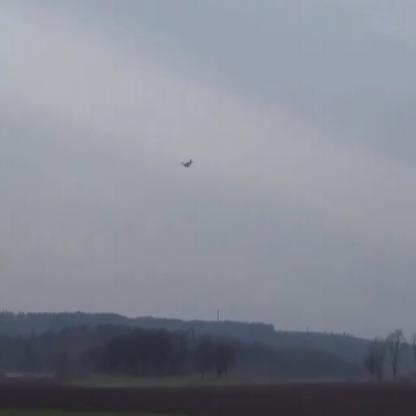CIV_Plane: (180, 158, 194, 168)
